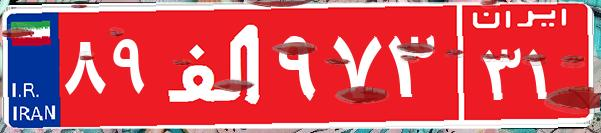1: (525, 38, 570, 115)
3: (385, 28, 445, 110), (475, 38, 525, 113)
7: (330, 28, 385, 110)
8: (57, 26, 110, 107)
9: (273, 28, 330, 110), (110, 28, 158, 105)
الف: (158, 15, 273, 115)
